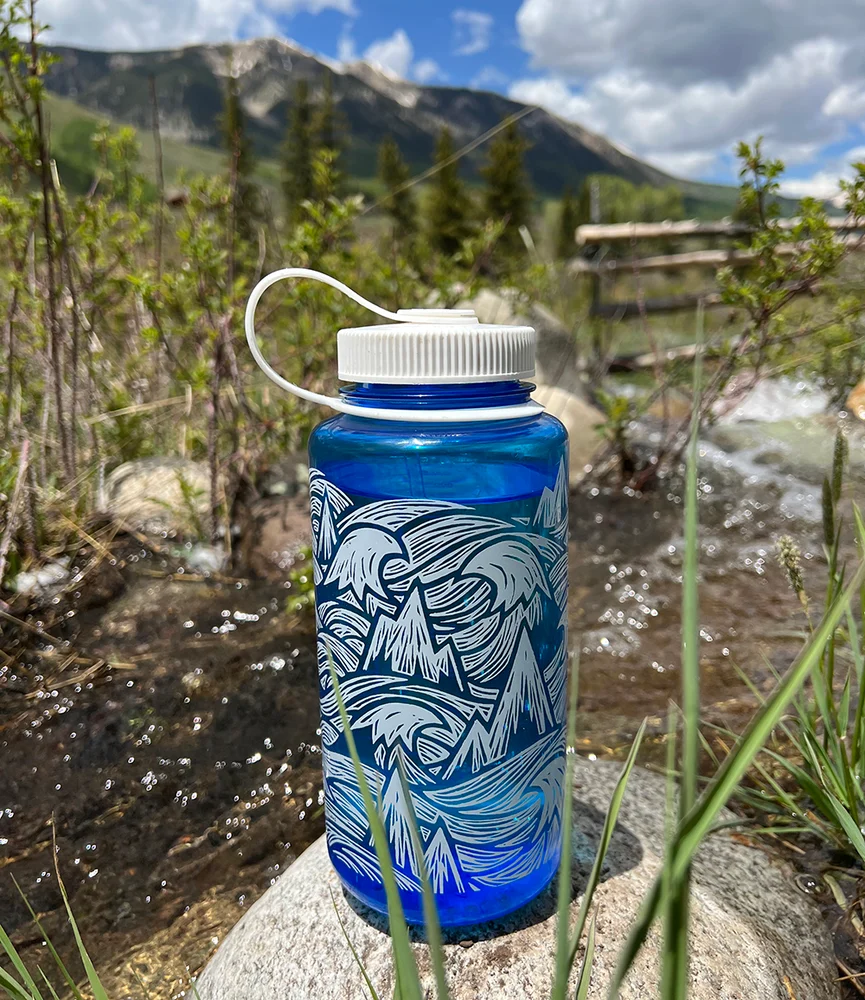bottle: (240, 267, 571, 927)
